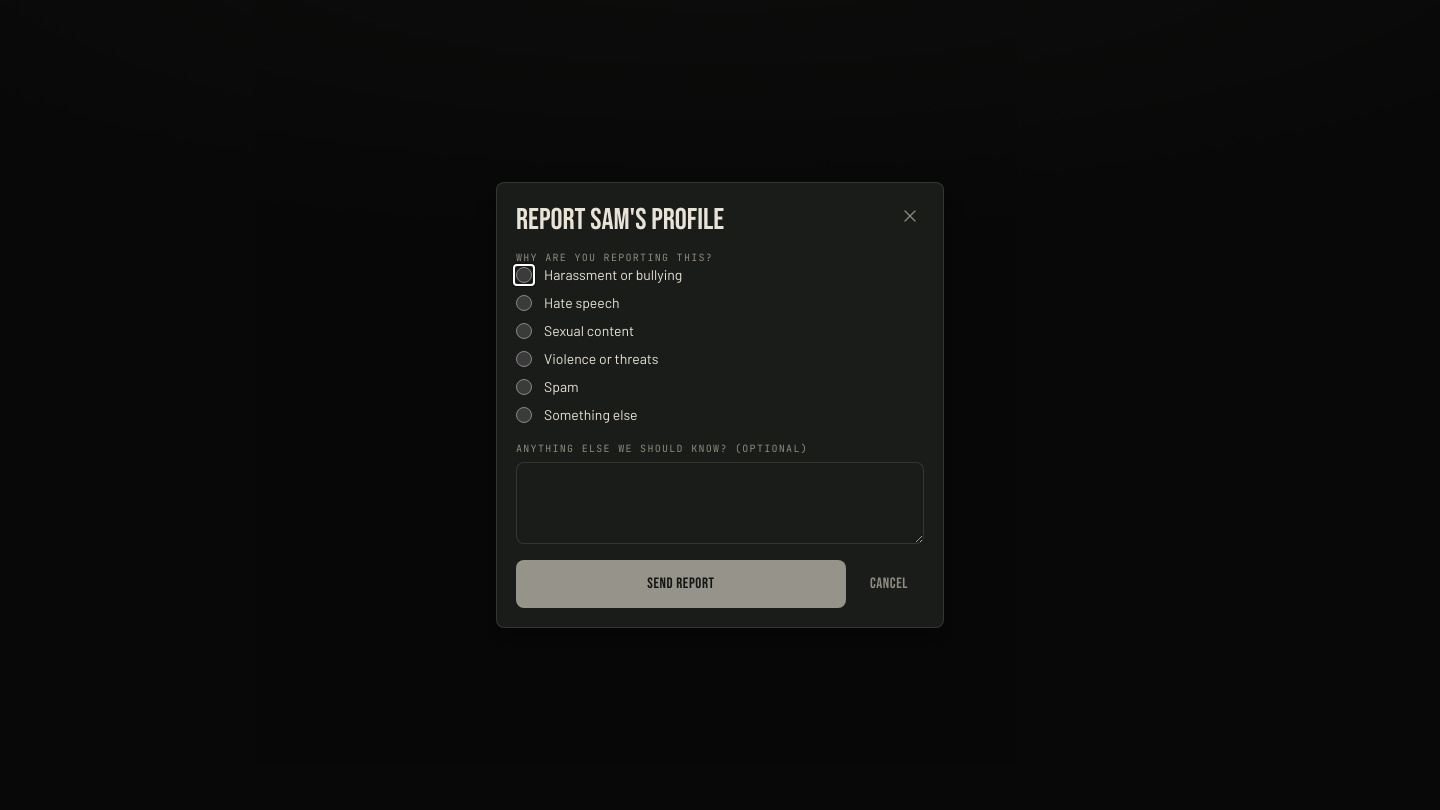
Test: ReportDialog › shows the server's refusal and stays open
Click the radio button labelled "Spam". click: [524, 387]
box: [516,379,532,395]
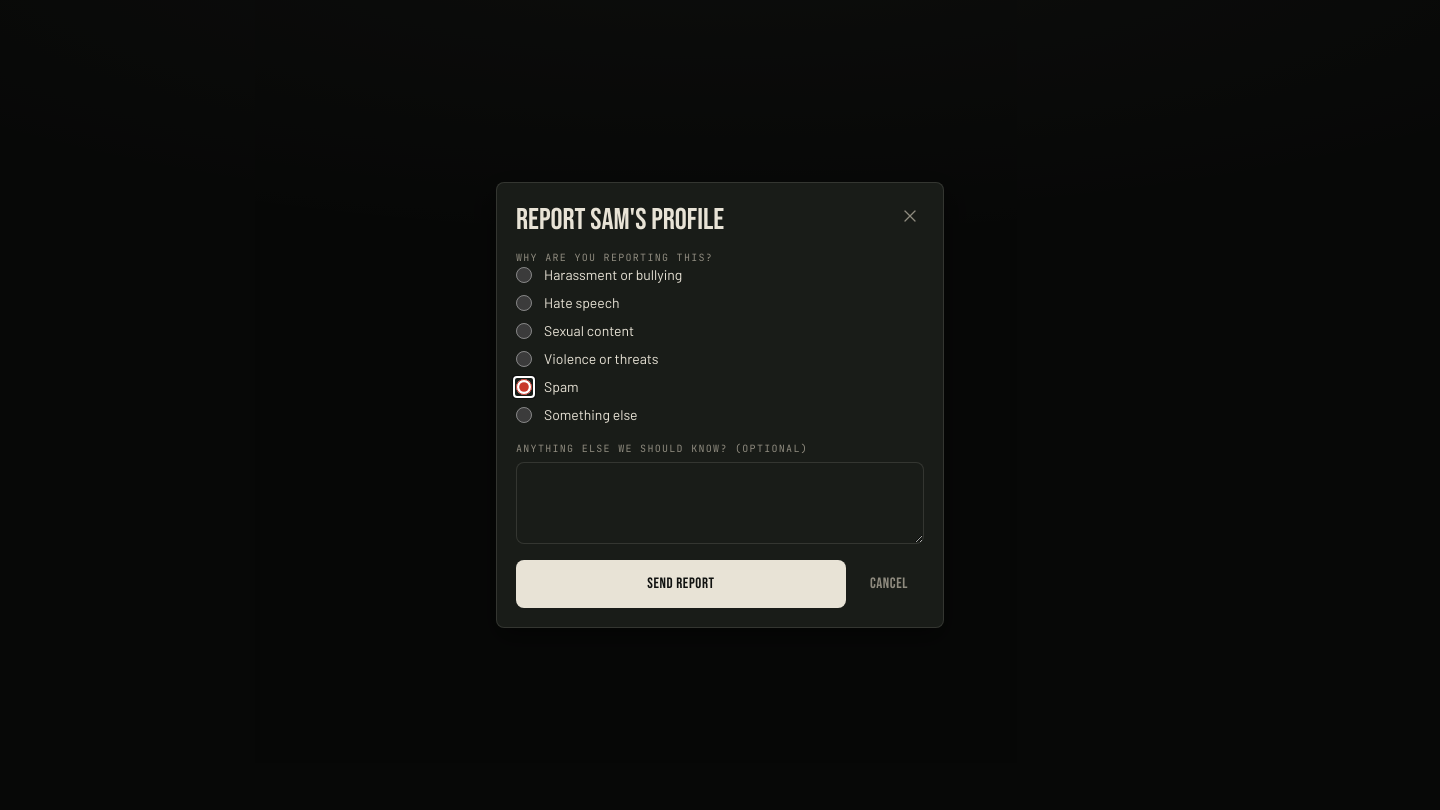
Click the button "Send report". click: [681, 584]
box: [516,560,846,608]
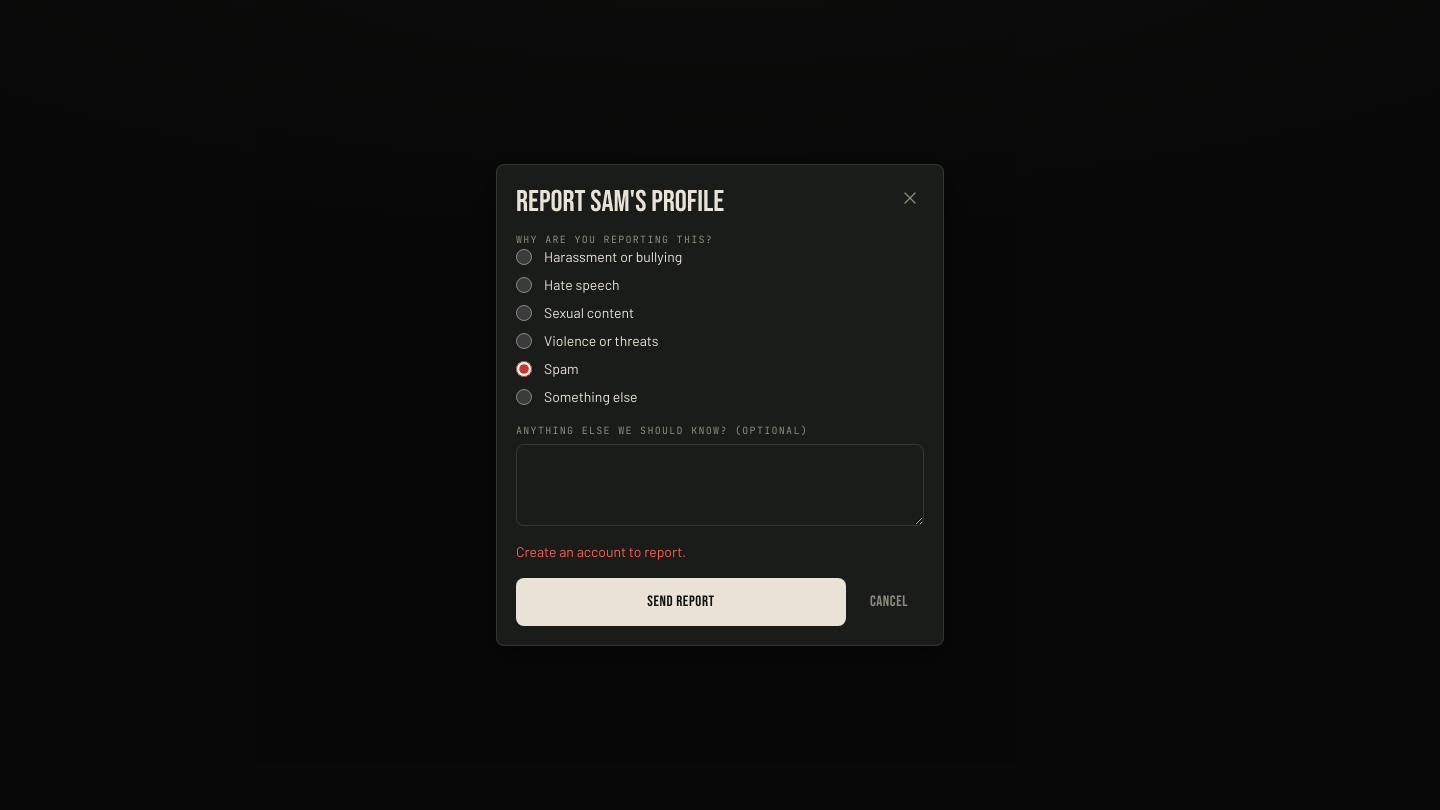
Check: the button "Send report" is enabled, box [516,578,846,626]
Check: the message reads "Create an account to report.", box [516,543,686,560]
